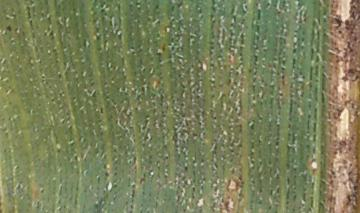tarspot: (1, 23, 16, 34), (181, 162, 192, 175)
